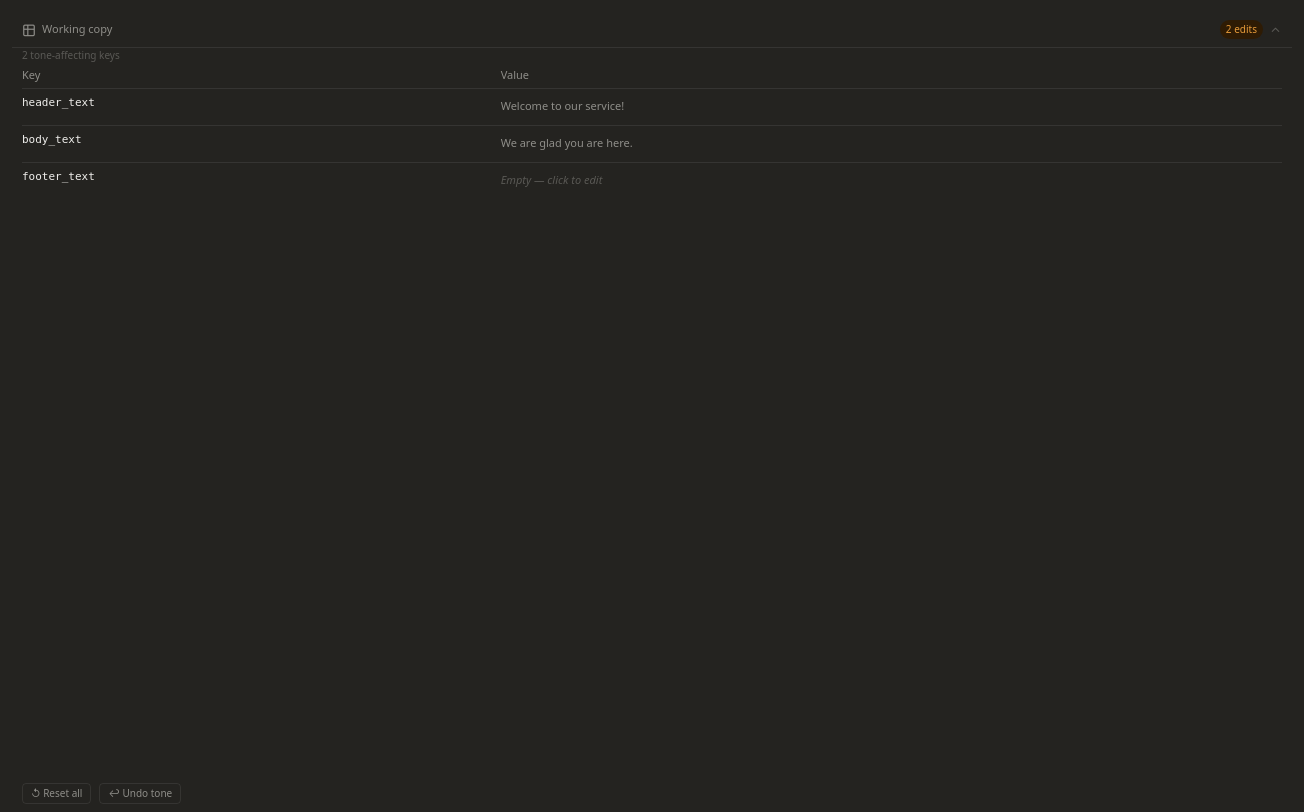
WorkingCopy › opens the editor for an empty working copy value
This screenshot has width=1304, height=812.
Click the button with aria-label "Edit footer_text": [551, 180] box [501, 168, 1282, 192]
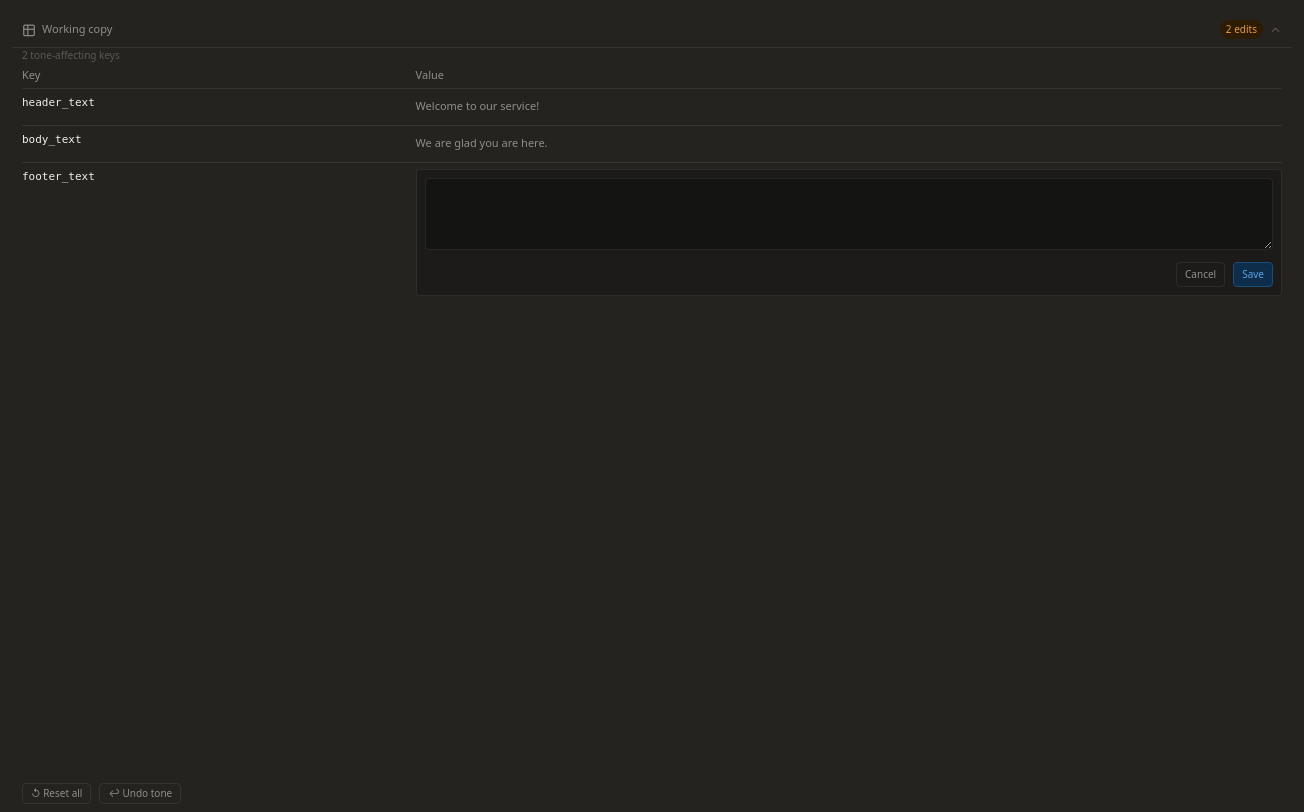
Expected: the text box is empty
In the text box: [849, 214] box [425, 178, 1273, 250], type "New footer"
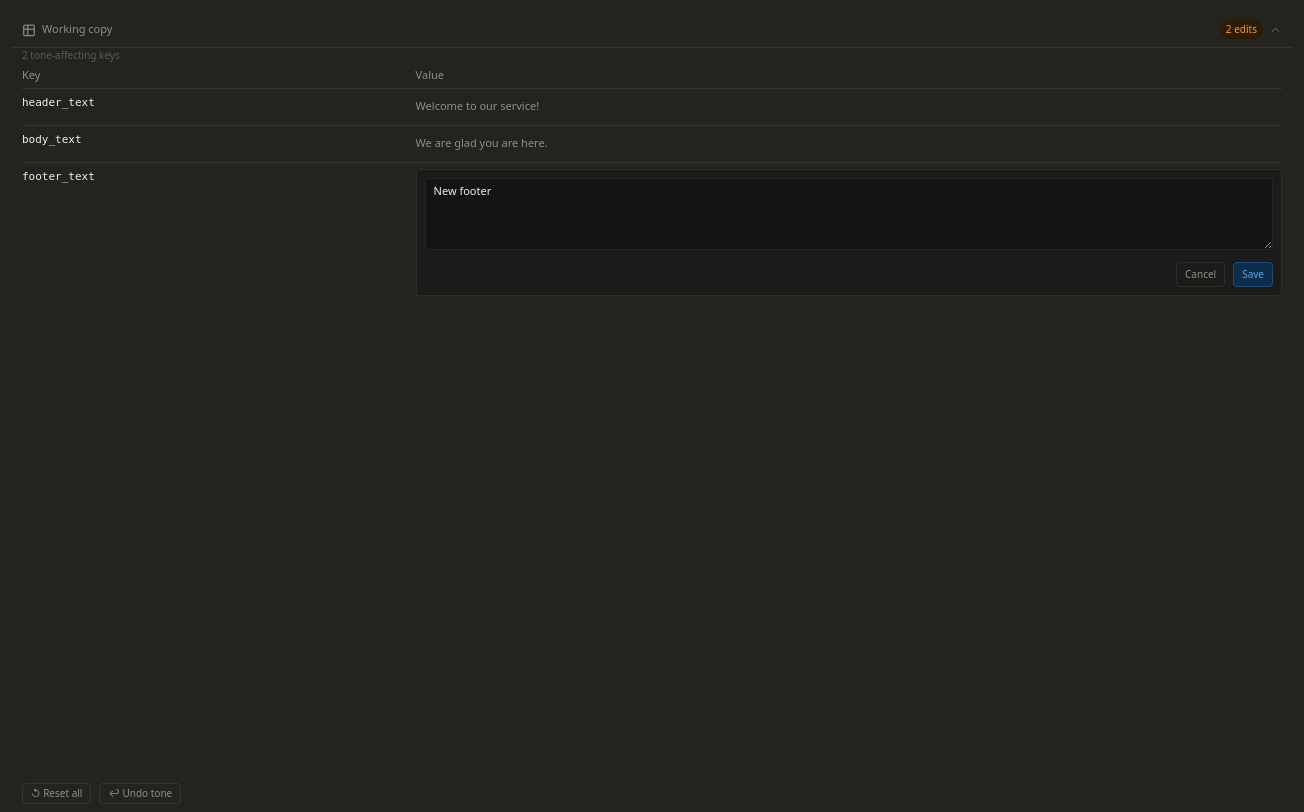
Click the button "Save": [1253, 274] box [1233, 262, 1273, 287]
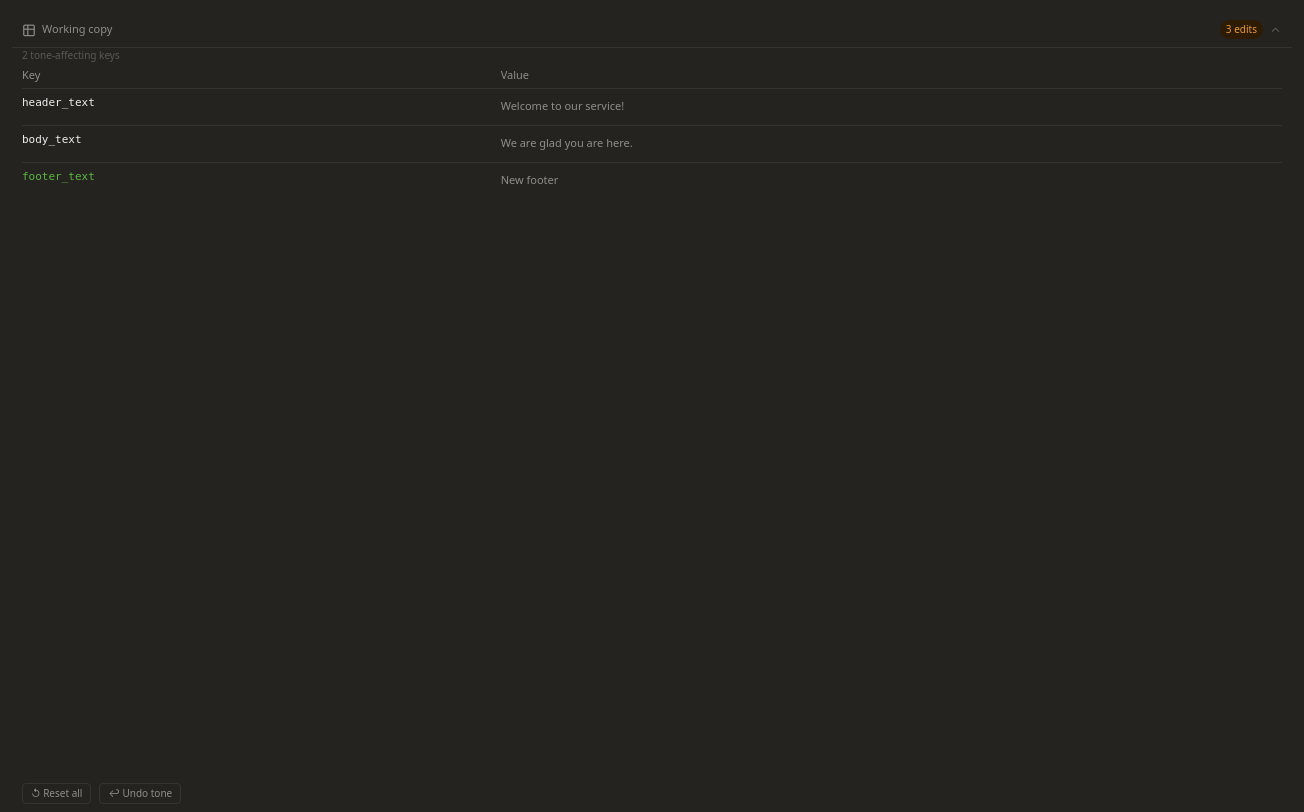
Expected: the button "New footer" is shown, [501, 168, 1282, 192]
